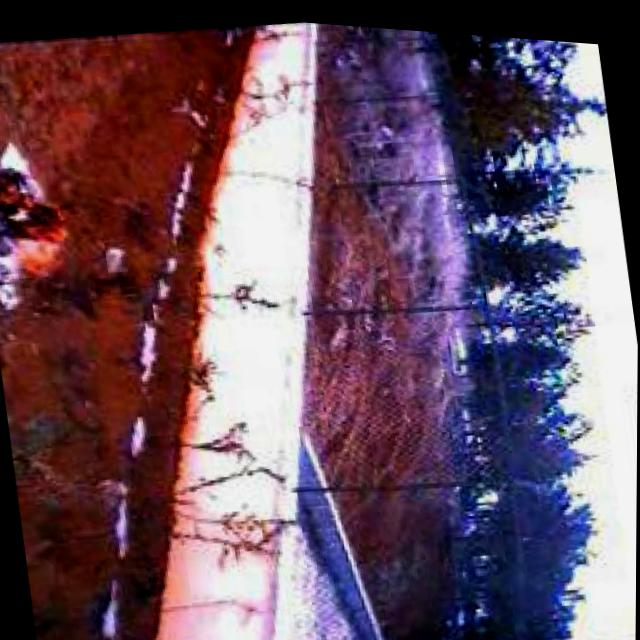Fire: (0, 151, 76, 289)
